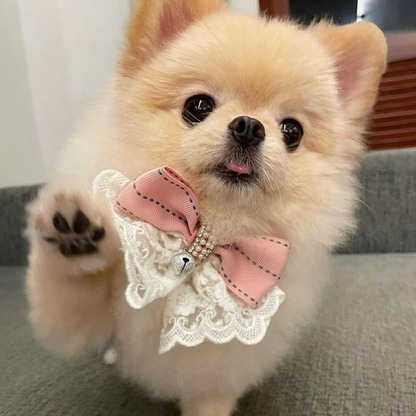Pomeranian: (60, 9, 358, 394)
